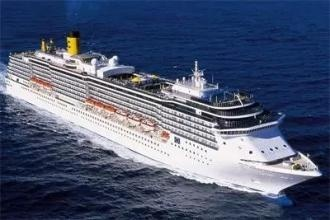youlun: (5, 30, 326, 197)
